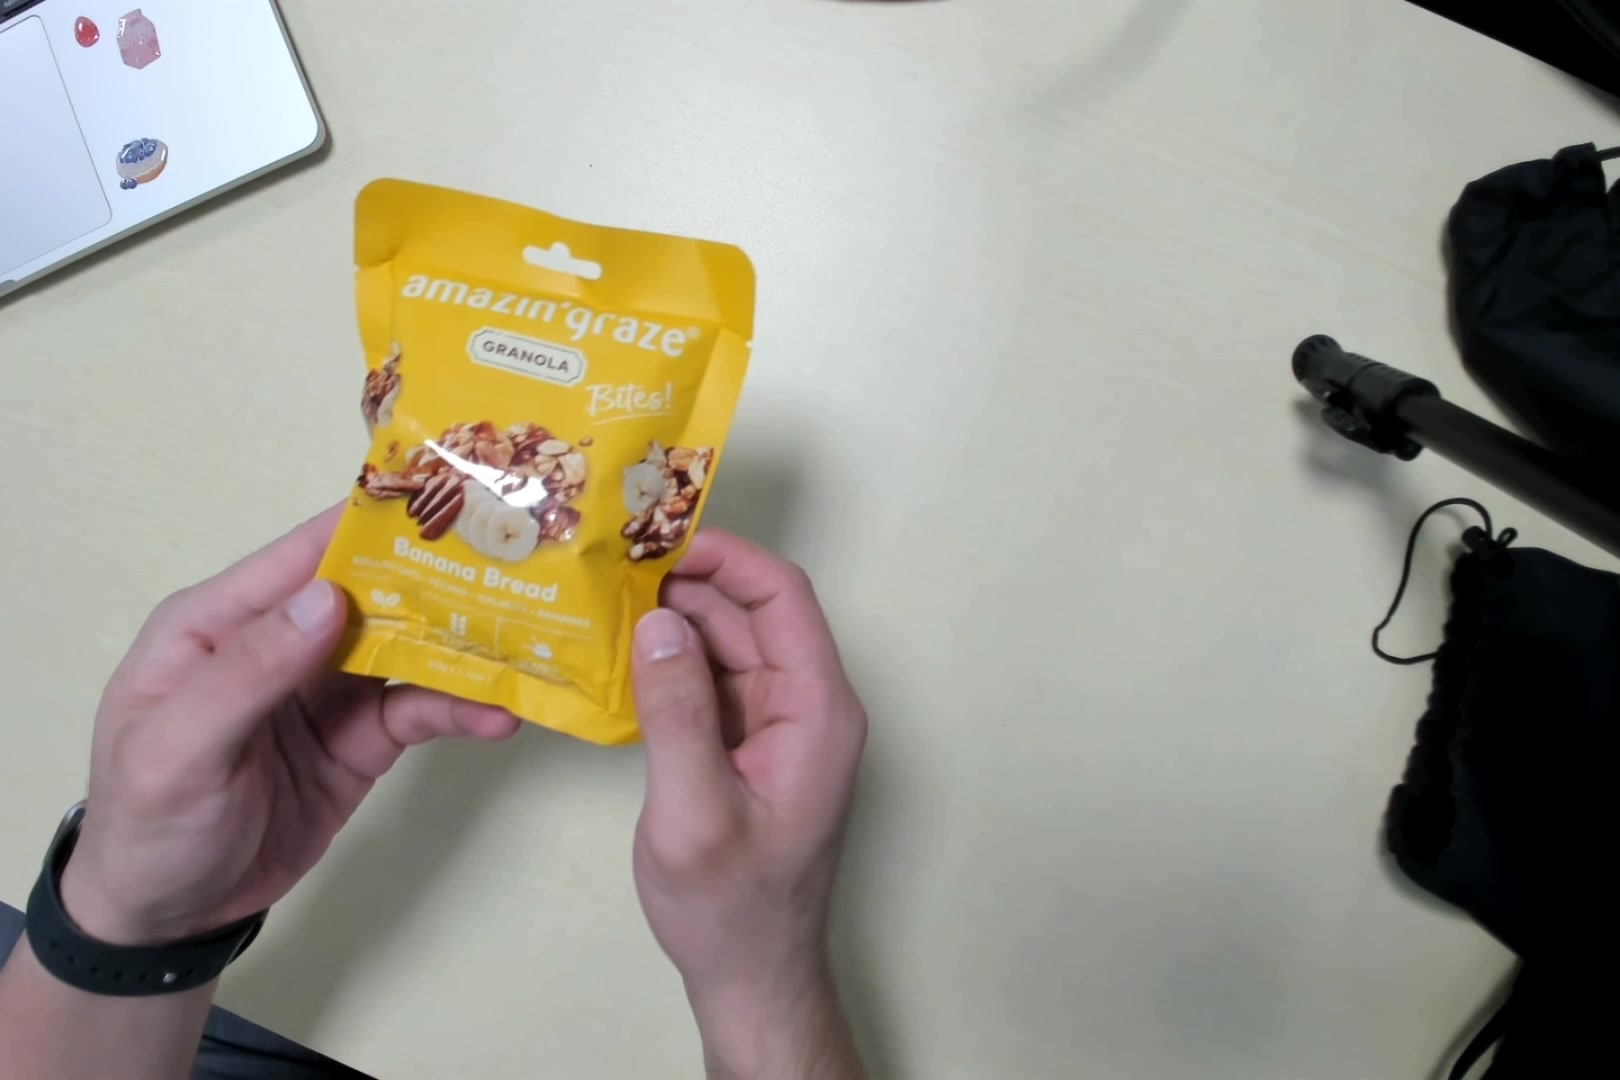BreakfastCereals_0-99g_NonHalal_NonHealthy: (322, 198, 705, 741)
